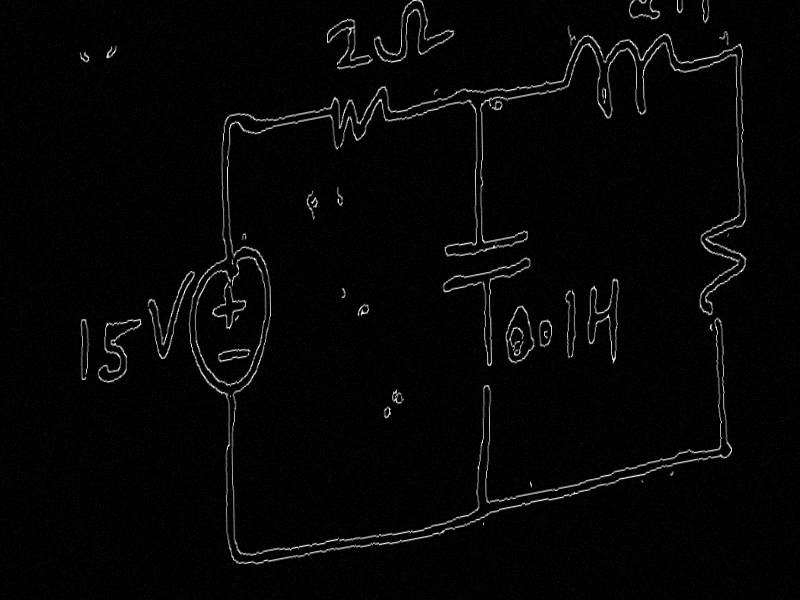-: (216, 338, 251, 369)
0: (537, 312, 554, 353)
1: (561, 285, 580, 366), (77, 312, 92, 385)
2: (325, 10, 373, 77), (503, 299, 537, 369), (626, 0, 663, 29)
5: (95, 309, 144, 391)
H: (584, 272, 622, 372)
V: (146, 266, 197, 367)
